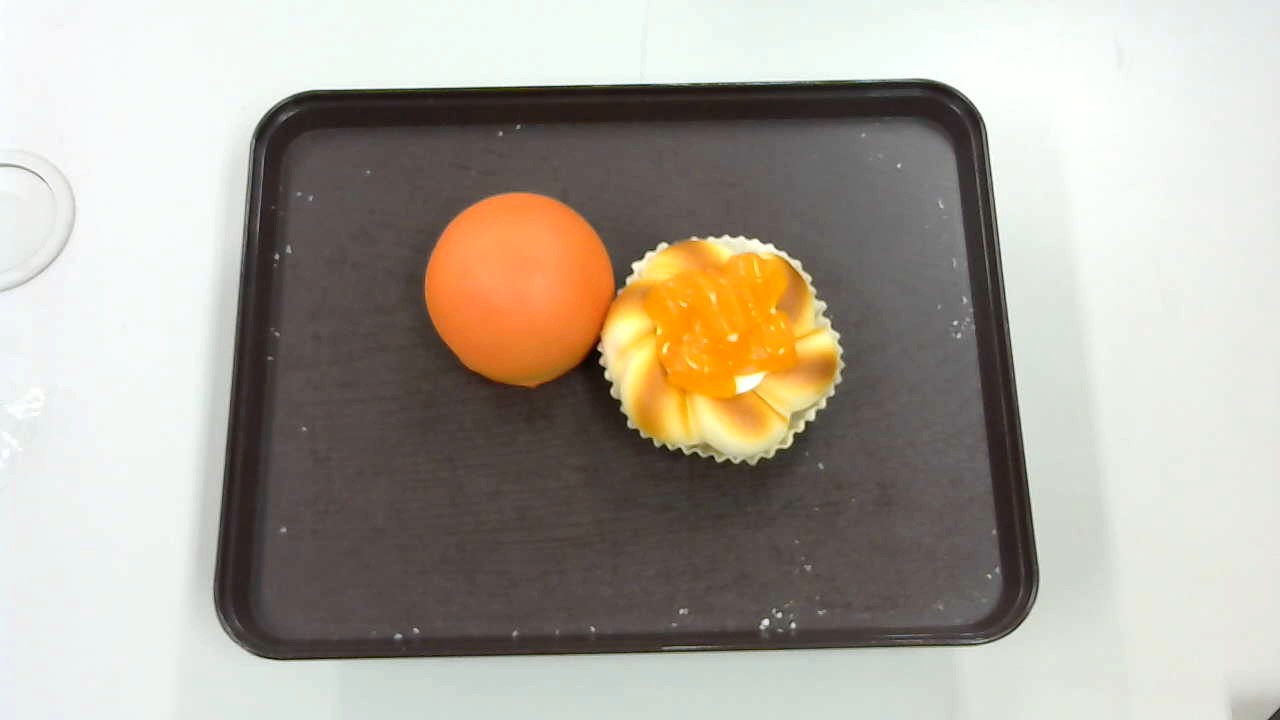bun: (423, 192, 613, 387)
mango tart: (599, 233, 845, 466)
